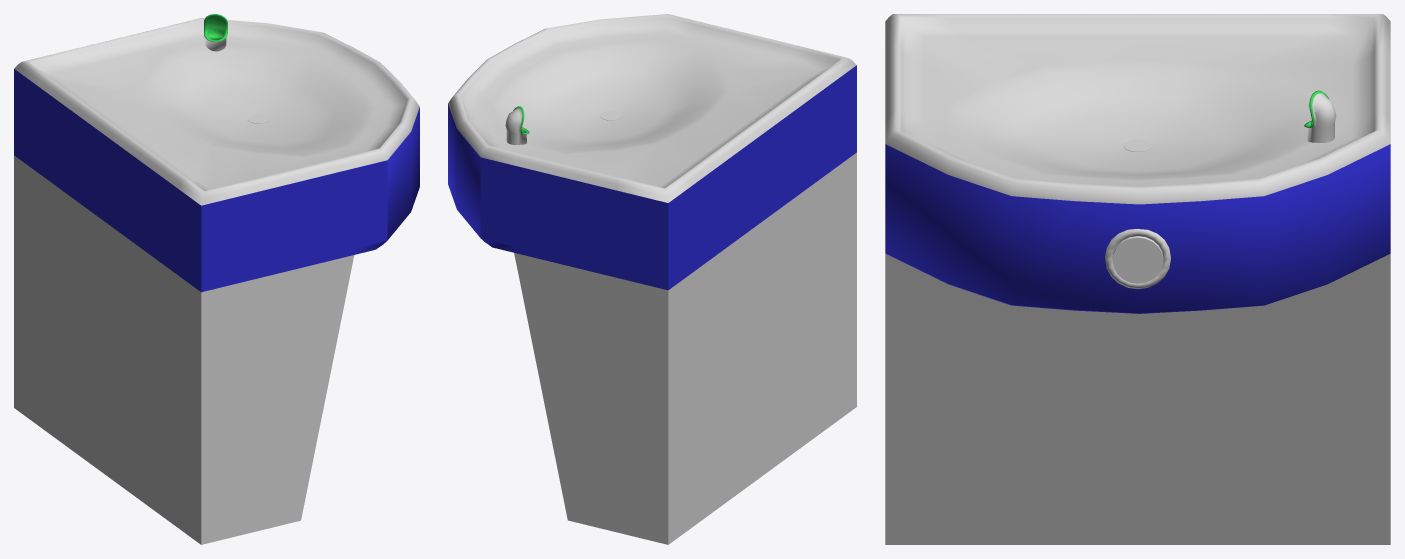
File: drinking-fountain.fbx
3 renders of one model, left to right at view 1: azimuth 30°, elevation 25°; view 2: azimuth 150°, elevation 25°; view 3: azimuth 270°, elevation 25°, orthographic. The views are drawn at different scales.
Parts seen in each view (by area): view 1: fountain-box, drinking-aperatus; view 2: fountain-box, drinking-aperatus; view 3: fountain-box, drinking-aperatus.
Part boxes in pixels (x1,y1,x2,y2): fountain-box: [14, 18, 419, 544]; drinking-aperatus: [204, 14, 227, 51]; fountain-box: [448, 14, 856, 544]; drinking-aperatus: [505, 106, 529, 144]; fountain-box: [885, 14, 1390, 544]; drinking-aperatus: [1304, 90, 1336, 142].
Size of the model in its own units: 86.71 by 110 by 100.
